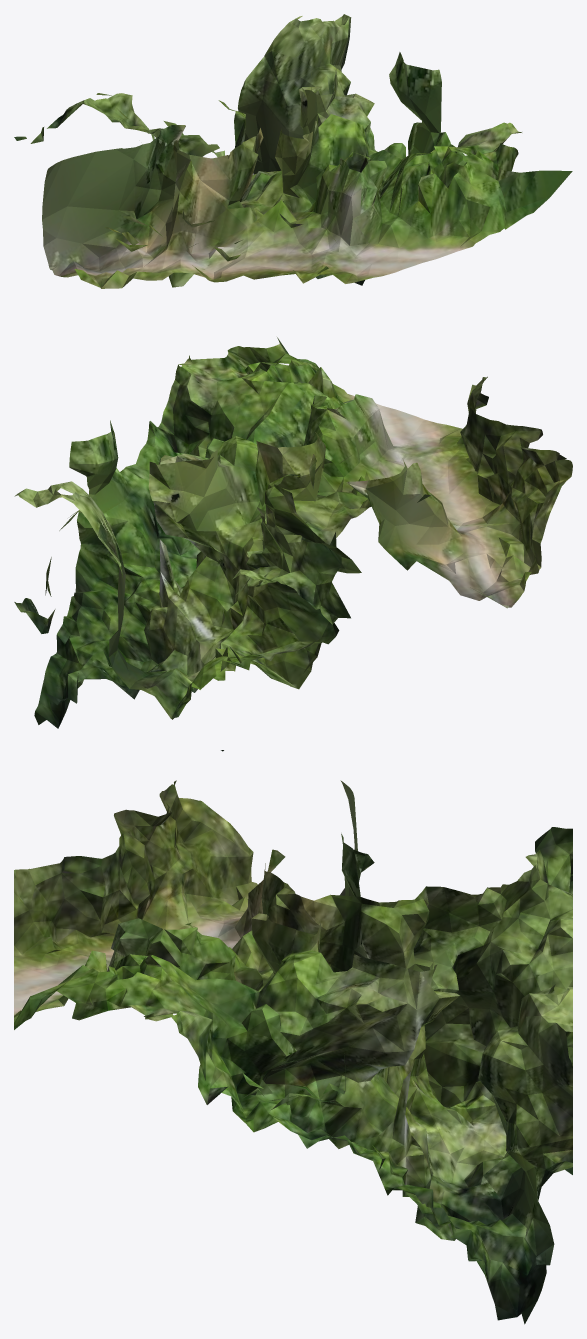
3 views of the same model, one above another, from view 1: azimuth 30°, elevation 25°; view 2: azimuth 150°, elevation 25°; view 3: azimuth 270°, elevation 25° (orthographic). The views are drawn at different scales.
Bounding box in the file's own units: 26.11 × 16.18 × 26.11.
5 materials, 5 textured.
